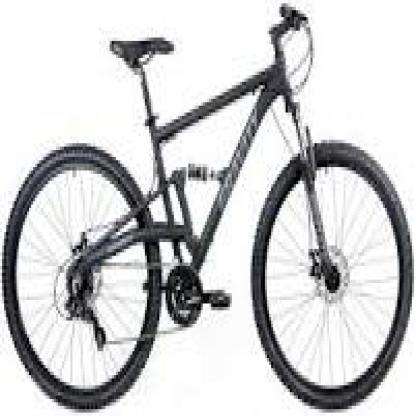Bike: (2, 8, 416, 416)
